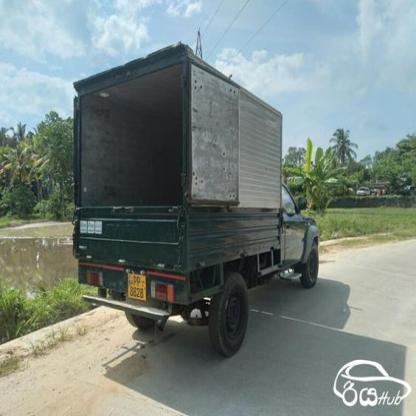Lorry back: (67, 41, 320, 357)
number plate: (126, 268, 146, 303)
